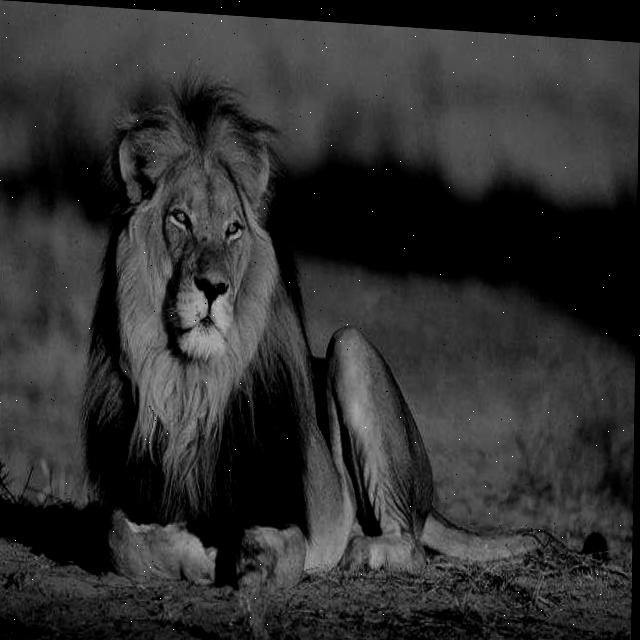Lion: (49, 79, 443, 606)
